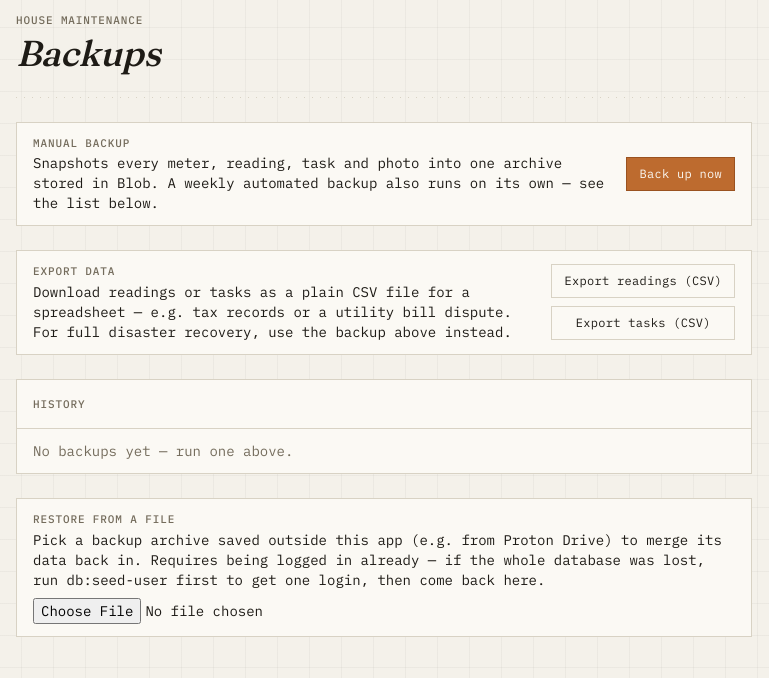
Test case: Export data › shows an error and re-enables the buttons when an export fails
The image size is (769, 678).
Click the button "Export readings (CSV)" at {"x": 643, "y": 281}, box [552,264,735,298]
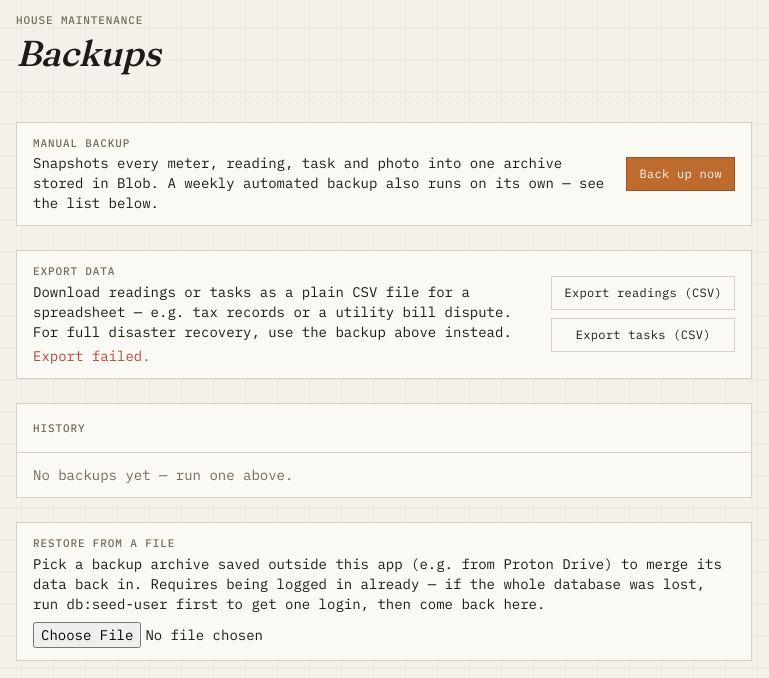
Expected: the button "Export tasks (CSV)" is enabled, [552,318,735,352]
Now the text "Export failed." is shown, box [33,346,151,364]
